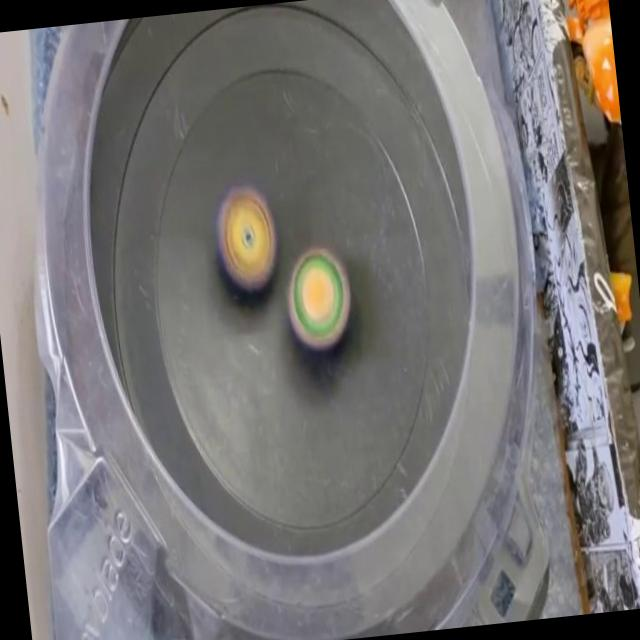Beyblade: (281, 243, 358, 355), (210, 180, 282, 296)
